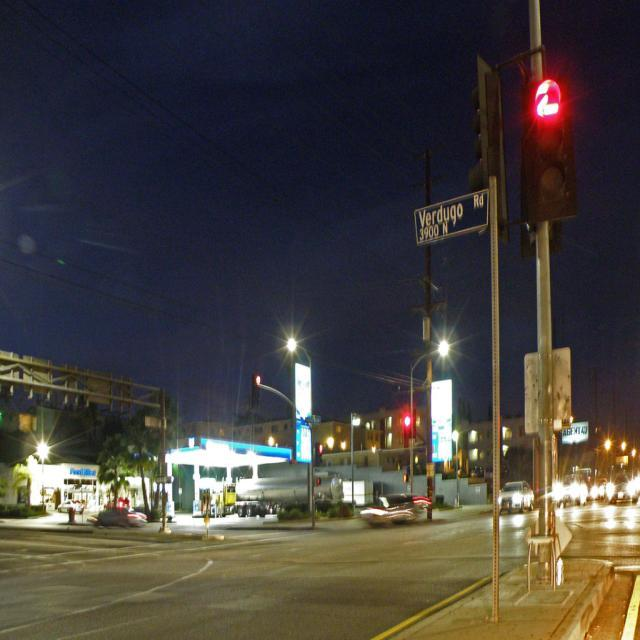traffic light: (529, 76, 577, 224)
